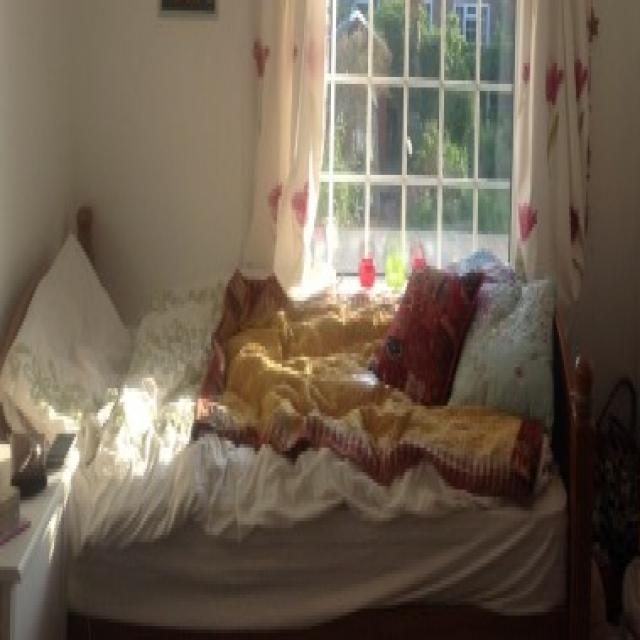bed: (18, 192, 570, 571)
